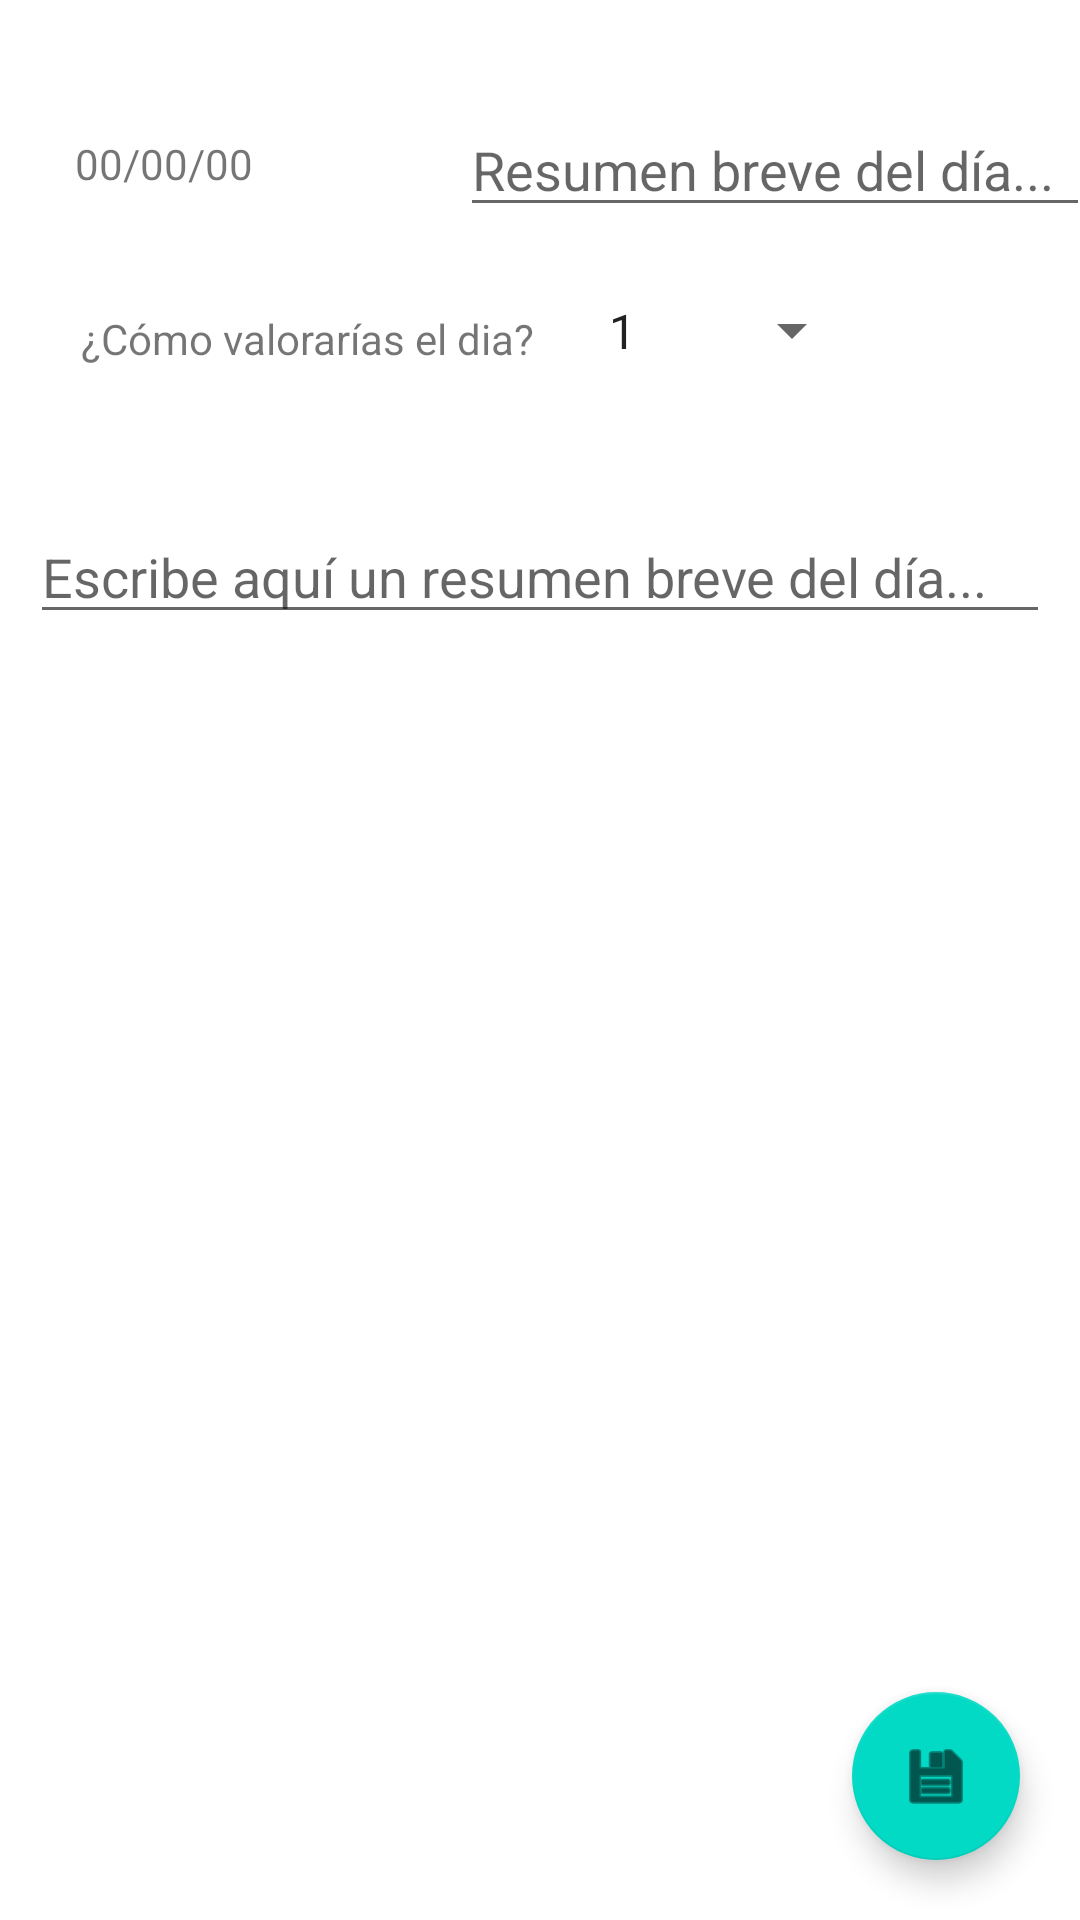

Screen size 1080*1920. Icon name, then its box in pixels as (x1, y1, x2, y2):
save: (852, 1692, 1020, 1860)
